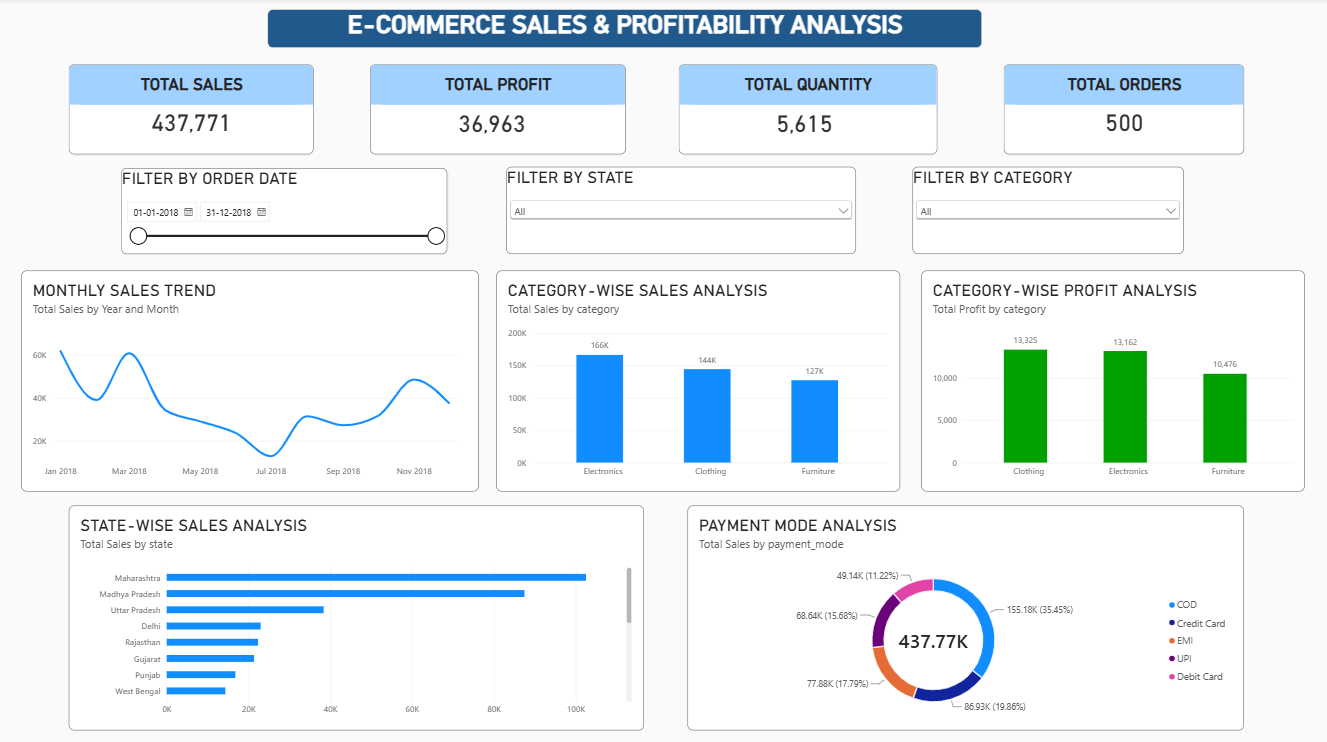

What the dashboard file says about the page in this screenshot:
{"tool":"powerbi","page":{"name":"Page 1","canvas":[1920,1080],"ordinal":0},"visuals":[{"type":"advanceCardE03760C5AB684758B56AA29F9E6C257B","title":"TOTAL SALES","fields":{"mainMeasure":["details.Total Sales"]},"box":[99.5,95.9,354.7,130.3],"z":0},{"type":"advanceCardE03760C5AB684758B56AA29F9E6C257B","title":"TOTAL QUANTITY","fields":{"mainMeasure":["details.Total Quantity"]},"box":[982,96,374,130],"z":1000},{"type":"advanceCardE03760C5AB684758B56AA29F9E6C257B","title":"TOTAL ORDERS","fields":{"mainMeasure":["details.Total Orders"]},"box":[1454,96,348,130],"z":2000},{"type":"advanceCardE03760C5AB684758B56AA29F9E6C257B","title":"TOTAL PROFIT","fields":{"mainMeasure":["details.Total Profit"]},"box":[536,96,370,130],"z":3000},{"type":"textbox","title":"E-COMMERCE SALES & PROFITABILITY ANALYSIS","box":[388,16,1034,56],"z":4000},{"type":"lineChart","title":"MONTHLY SALES TREND","fields":{"Category":["orders.order_date.Variation.Date Hierarchy.Year","orders.order_date.Variation.Date Hierarchy.Month"],"Y":["details.Total Sales"]},"box":[30.8,394.5,662.3,320.3],"z":5000},{"type":"clusteredColumnChart","title":"CATEGORY-WISE PROFIT ANALYSIS","fields":{"Category":["details.category"],"Y":["details.Total Profit"]},"box":[1333.7,394.5,555.6,320.3],"z":6000},{"type":"clusteredColumnChart","title":"CATEGORY-WISE SALES ANALYSIS","fields":{"Category":["details.category"],"Y":["details.Total Sales"]},"box":[718.4,394.5,584.5,320.3],"z":7000},{"type":"donutChart","title":"PAYMENT MODE ANALYSIS","fields":{"Category":["details.payment_mode"],"Y":["details.Total Sales"]},"box":[995.3,734.7,805.3,325.7],"z":8000},{"type":"slicer","title":"FILTER BY ORDER DATE","fields":{"Values":["orders.order_date"]},"box":[175.5,246.1,472.3,124.9],"z":9000},{"type":"slicer","title":"FILTER BY STATE","fields":{"Values":["orders.state"]},"box":[732.9,244.3,506.7,126.7],"z":10000},{"type":"slicer","title":"FILTER BY CATEGORY","fields":{"Values":["details.category"]},"box":[1321.1,244.3,392.7,126.7],"z":11000},{"type":"clusteredBarChart","title":"STATE-WISE SALES ANALYSIS","fields":{"Category":["orders.state"],"Y":["details.Total Sales"]},"box":[99.5,734.7,832.4,325.7],"z":12000}]}

Visuals, with their boxes in screenshot pixels (x1, y1, x2, y2), scaled from the page's 1920x1080 canvas onto the 1327x742 screenshot:
"TOTAL SALES" advanceCardE03760C5AB684758B56AA29F9E6C257B: [left=69, top=66, right=314, bottom=155]
"TOTAL QUANTITY" advanceCardE03760C5AB684758B56AA29F9E6C257B: [left=679, top=66, right=937, bottom=155]
"TOTAL ORDERS" advanceCardE03760C5AB684758B56AA29F9E6C257B: [left=1005, top=66, right=1245, bottom=155]
"TOTAL PROFIT" advanceCardE03760C5AB684758B56AA29F9E6C257B: [left=370, top=66, right=626, bottom=155]
"E-COMMERCE SALES & PROFITABILITY ANALYSIS" textbox: [left=268, top=11, right=983, bottom=49]
"MONTHLY SALES TREND" lineChart: [left=21, top=271, right=479, bottom=491]
"CATEGORY-WISE PROFIT ANALYSIS" clusteredColumnChart: [left=922, top=271, right=1306, bottom=491]
"CATEGORY-WISE SALES ANALYSIS" clusteredColumnChart: [left=497, top=271, right=900, bottom=491]
"PAYMENT MODE ANALYSIS" donutChart: [left=688, top=505, right=1244, bottom=729]
"FILTER BY ORDER DATE" slicer: [left=121, top=169, right=448, bottom=255]
"FILTER BY STATE" slicer: [left=507, top=168, right=857, bottom=255]
"FILTER BY CATEGORY" slicer: [left=913, top=168, right=1184, bottom=255]
"STATE-WISE SALES ANALYSIS" clusteredBarChart: [left=69, top=505, right=644, bottom=729]
